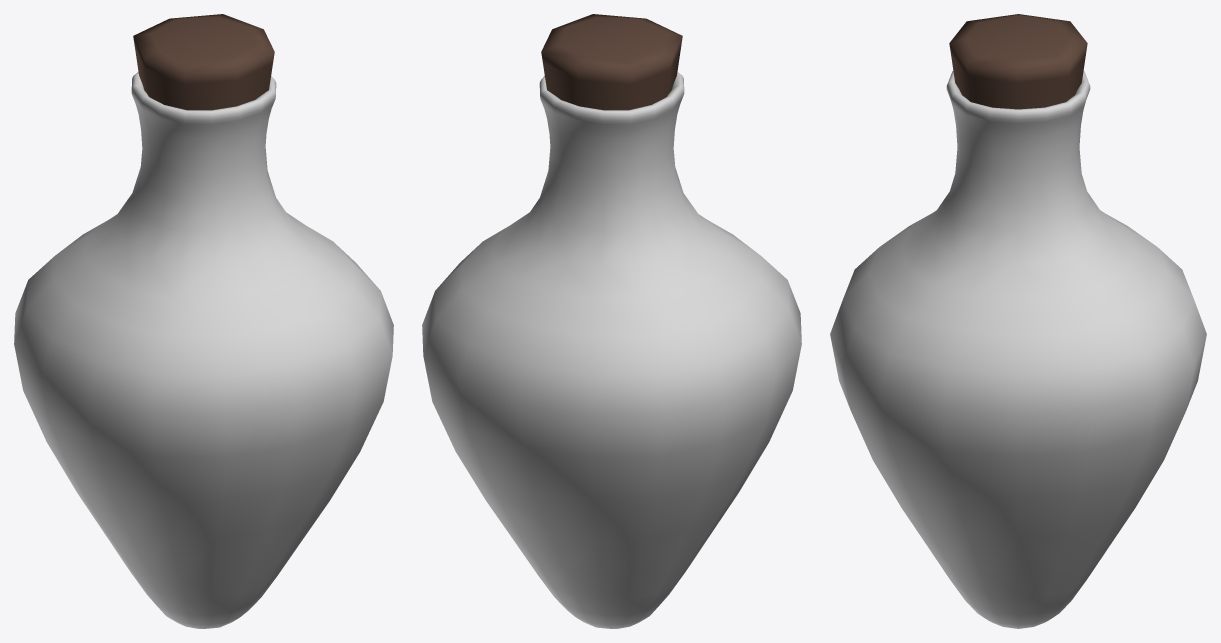
Rendered from Potion4_Filled.glb.
3 views of the same model, side by side, from view 1: azimuth 30°, elevation 25°; view 2: azimuth 150°, elevation 25°; view 3: azimuth 270°, elevation 25° (orthographic).
Parts seen in each view (by area): view 1: Potion4_Filled_Cube.064; view 2: Potion4_Filled_Cube.064; view 3: Potion4_Filled_Cube.064.
Boxes of the visible parts, <box> form: Potion4_Filled_Cube.064: <box>14,14,393,628</box>; Potion4_Filled_Cube.064: <box>422,14,801,628</box>; Potion4_Filled_Cube.064: <box>830,14,1206,628</box>.
Bounding box in the file's own units: 0.7187 × 1.24 × 0.7187.
